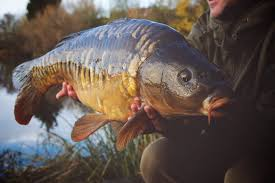carp: (11, 17, 239, 154)
